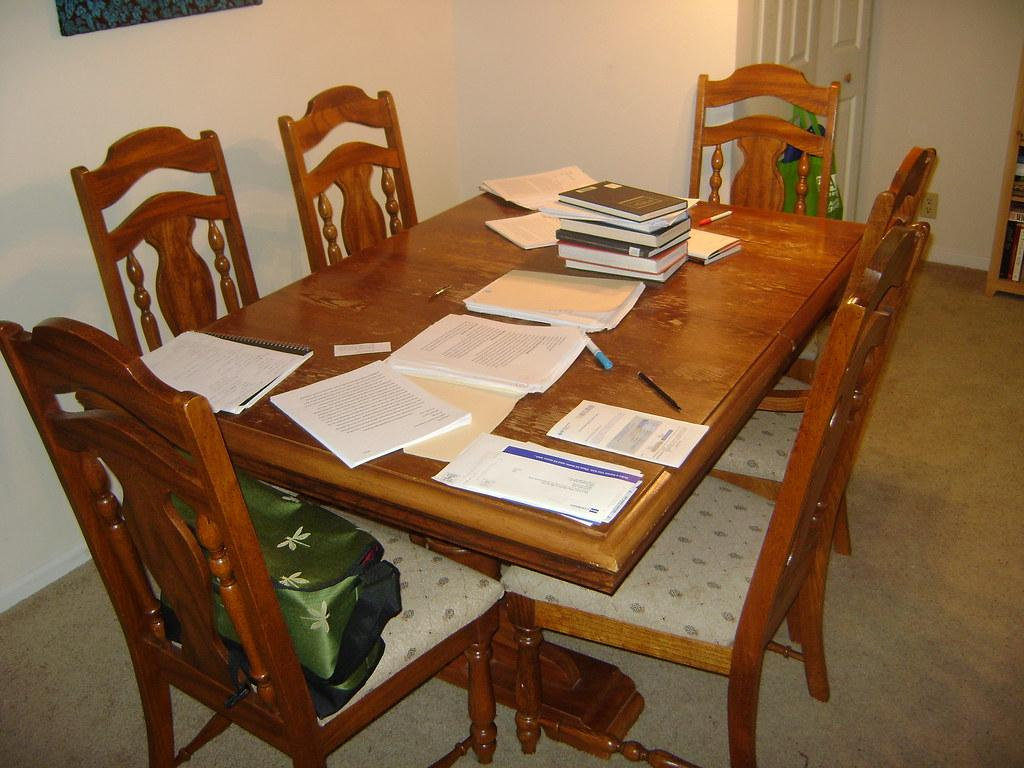table: (105, 154, 887, 768)
